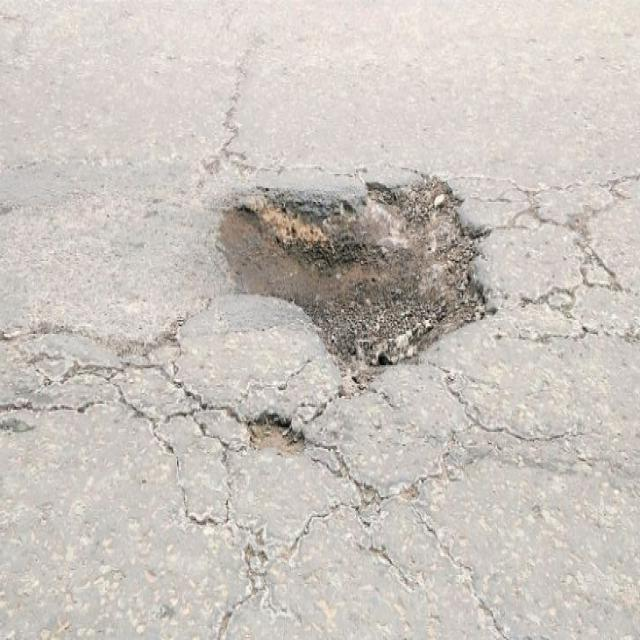Pothole: (217, 154, 500, 393)
